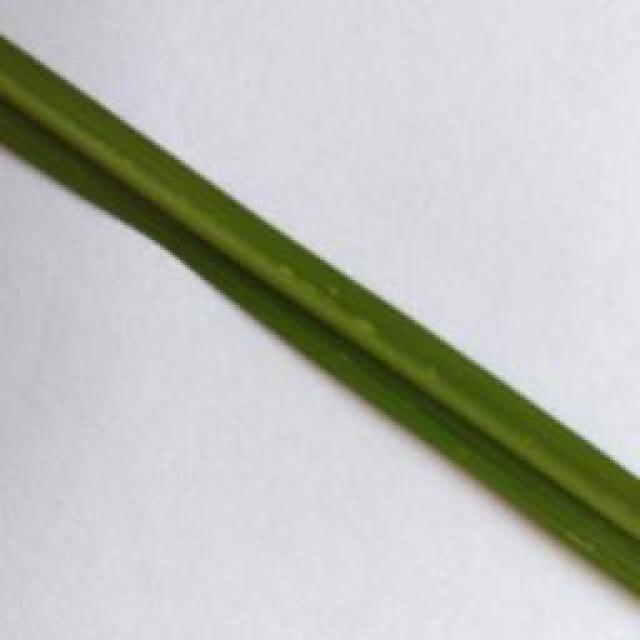Healthy-Plant: (0, 37, 640, 596)
